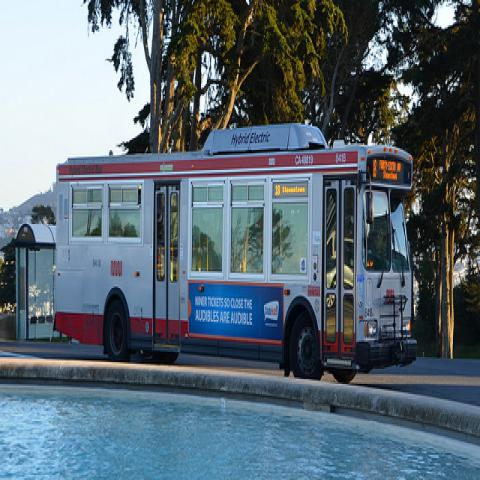bus: (54, 124, 418, 381)
